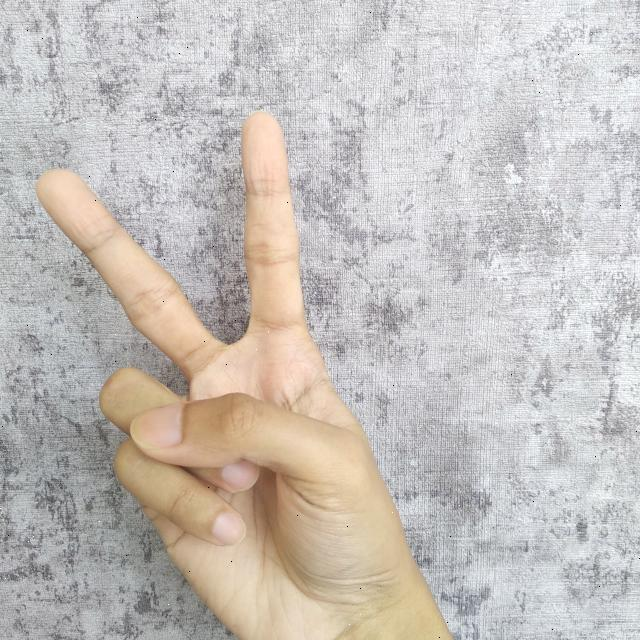V: (34, 103, 456, 640)
